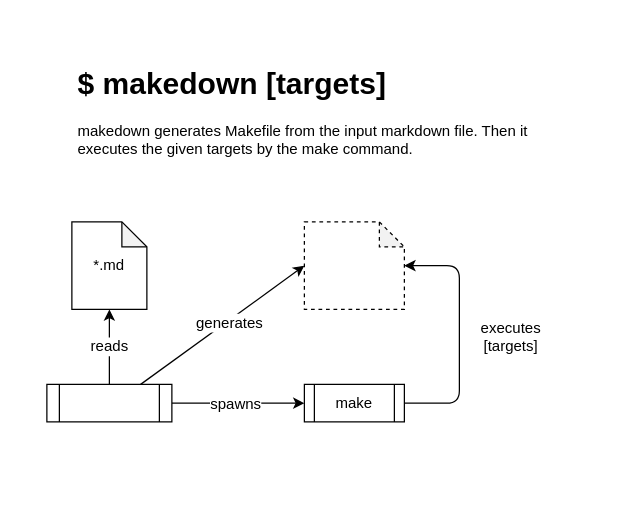
Some shapes in this 618 by 530 pixel diagram are drawn without their labels. The shapes that lost their labels are listed below. From the top down, each one's box as (x1, y1, x2, y2) in pixels, then its label:
(303, 221, 404, 309): Makefile
(46, 383, 172, 422): makedown
